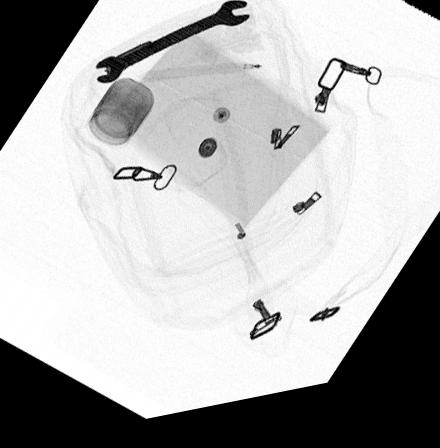Wrench: (94, 9, 251, 88)
